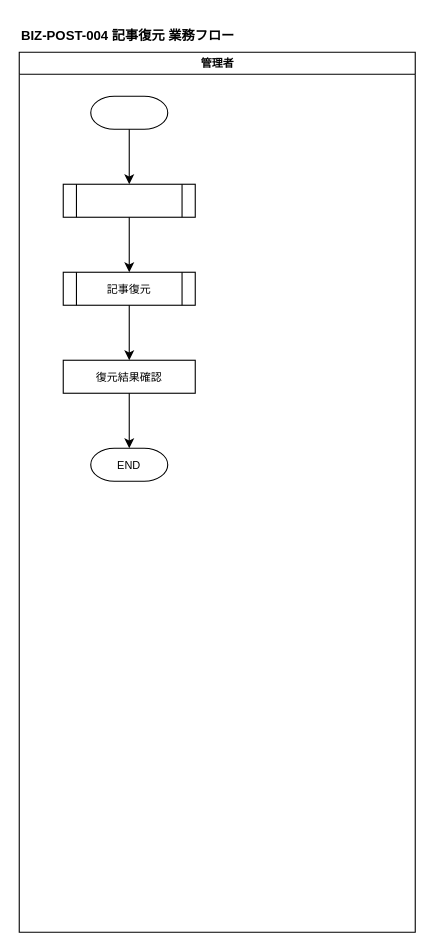
The diagram is 435 pixels wide and 952 high, and some of its shapes have lost their labels. Here are the shapes that lost their labels. From the top down, the box of each, then its label:
(90, 95, 168, 129): START
(62, 183, 195, 217): 削除済み記事選択
